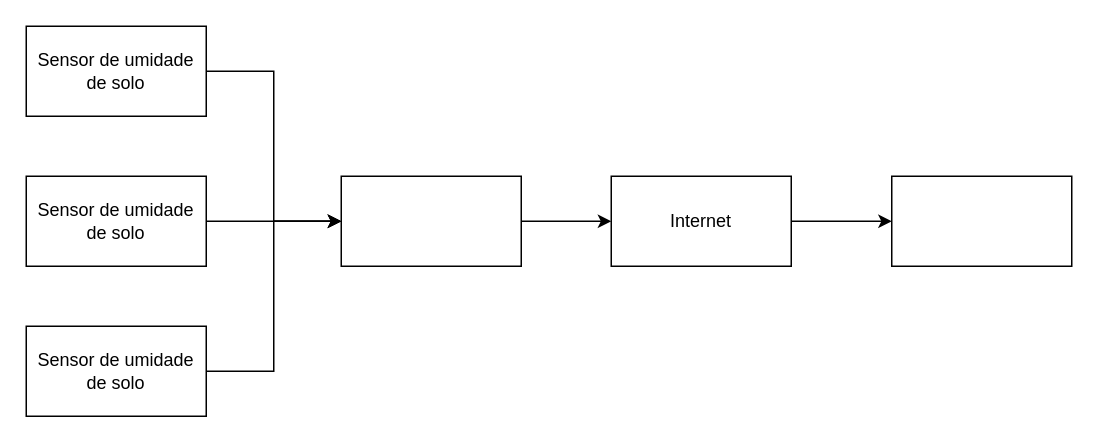
Some shapes in this 1098 by 443 pixel diagram are drawn without their labels. The shapes that lost their labels are listed below. From the top down, each one's centre as x and y in pixels, then its label:
At point (430, 220): "ESP32".
At point (981, 220): "Banco de dados".
